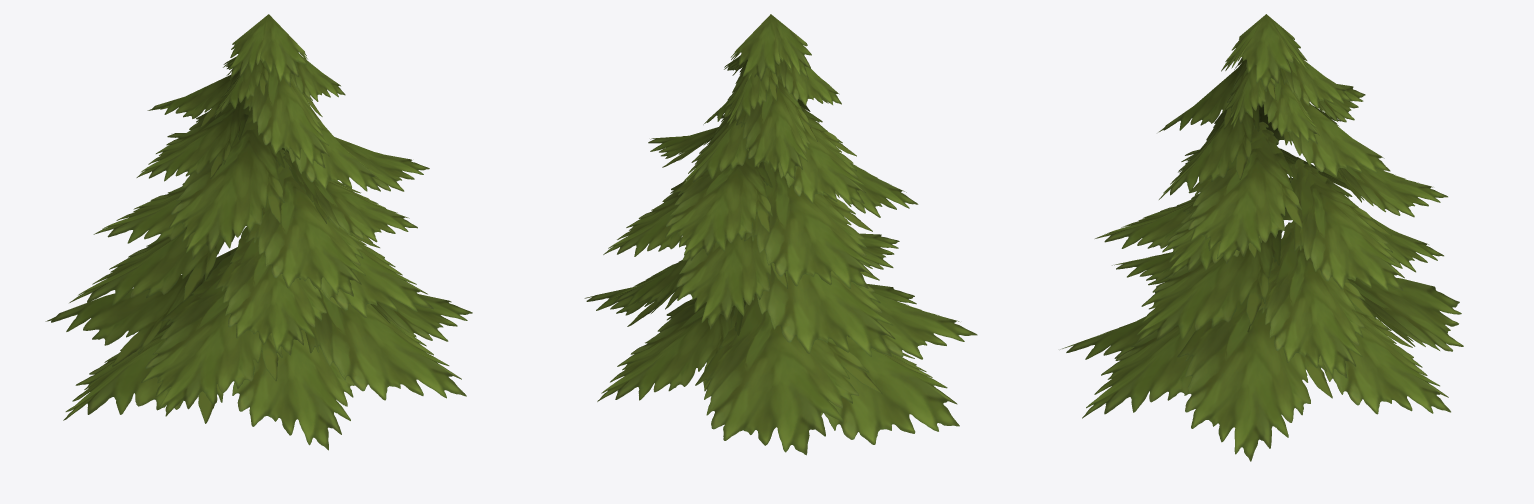
File: tree_01.FBX
The picture shows the model from 3 angles, left to right: view 1: azimuth 30°, elevation 25°; view 2: azimuth 150°, elevation 25°; view 3: azimuth 270°, elevation 25°; orthographic projection. The views are drawn at different scales.
Visible parts, largest first — view 1: tree_1; view 2: tree_1; view 3: tree_1.
Boxes of the visible parts, x1,y1,x2,y2 form: tree_1: (45,14,472,450); tree_1: (584,14,977,455); tree_1: (1060,14,1463,461).
Size of the model in its own units: 668 by 597 by 653.
Materials: 1 (1 with a texture image).
